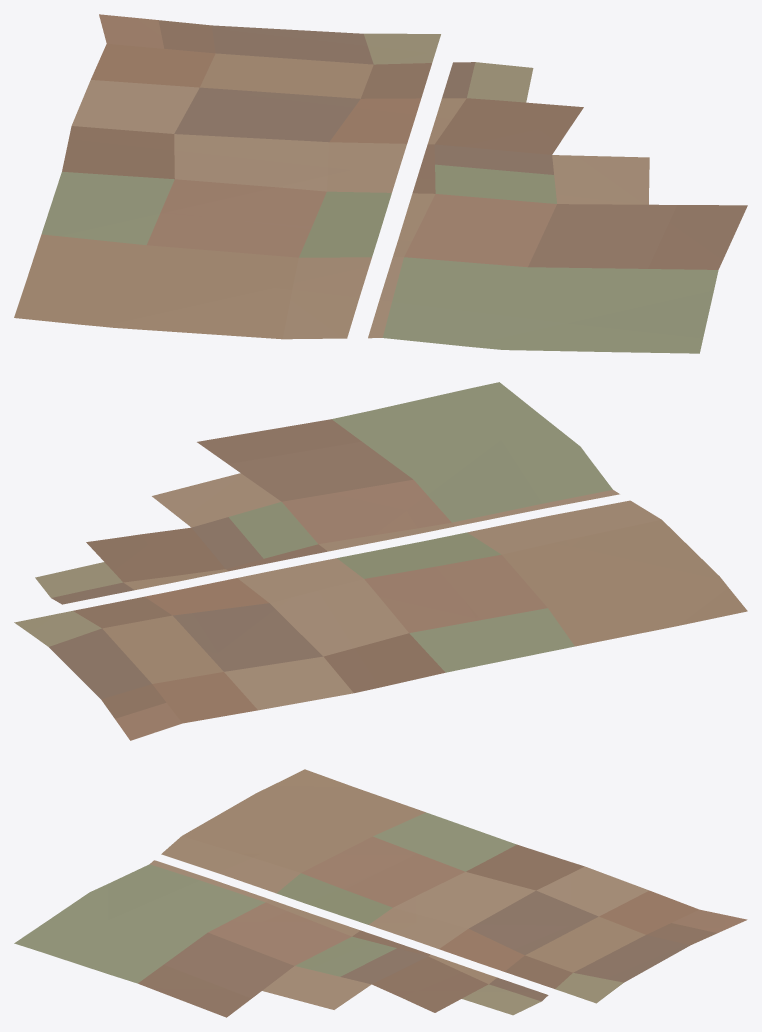
The model's file is farm_4_7_soil.glb.
3 views of the same model, one above another, from view 1: azimuth 30°, elevation 25°; view 2: azimuth 150°, elevation 25°; view 3: azimuth 270°, elevation 25° (orthographic). The views are drawn at different scales.
Visible parts, largest first — view 1: geometry_0; view 2: geometry_0; view 3: geometry_0.
Boxes of the visible parts, x1=… form: geometry_0: x1=14, y1=14, x2=747, y2=353; geometry_0: x1=14, y1=382, x2=747, y2=740; geometry_0: x1=14, y1=769, x2=747, y2=1017.
Size of the model in its own units: 293 by 7.45 by 381.
